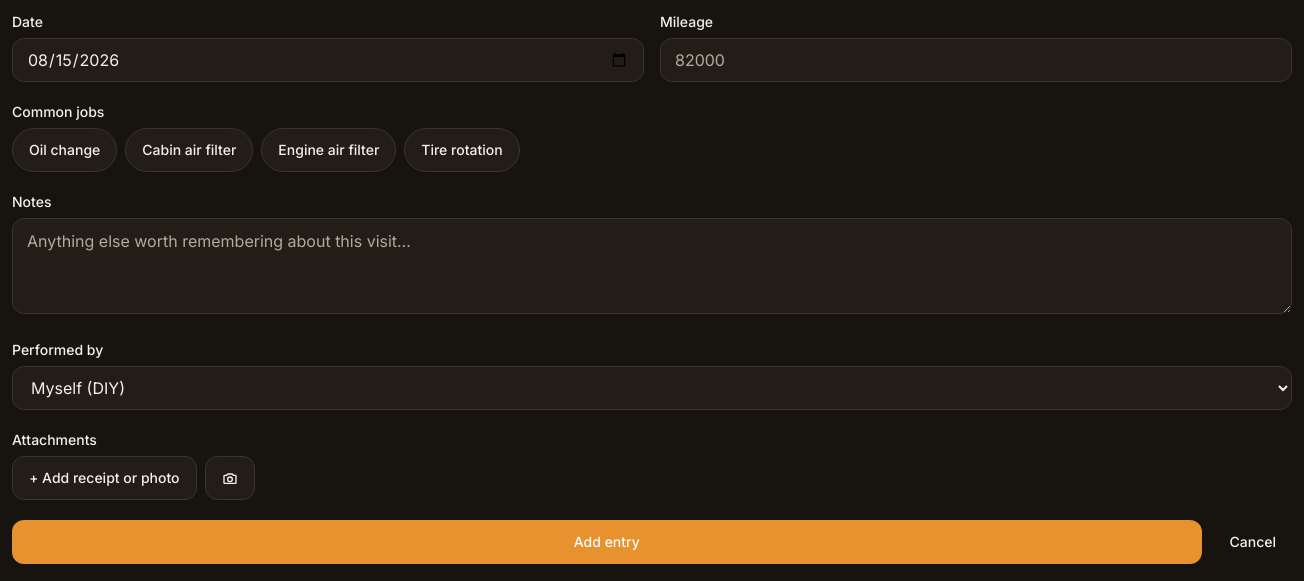
Test case: EntryForm › only accepts digits in the mileage field
Type "8ab2,000" into the field labelled "Mileage".
click(976, 60); type("8ab2,000")  # box [660,38,1292,82]
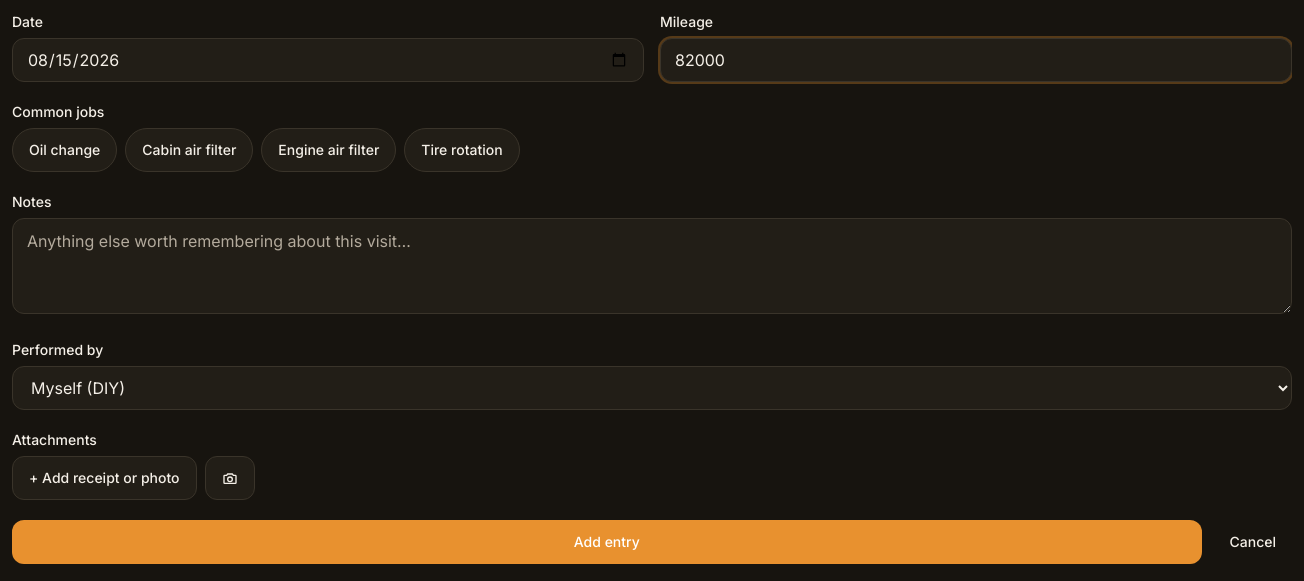
Check: the field labelled "Mileage" holds "82000", box [660,38,1292,82]
